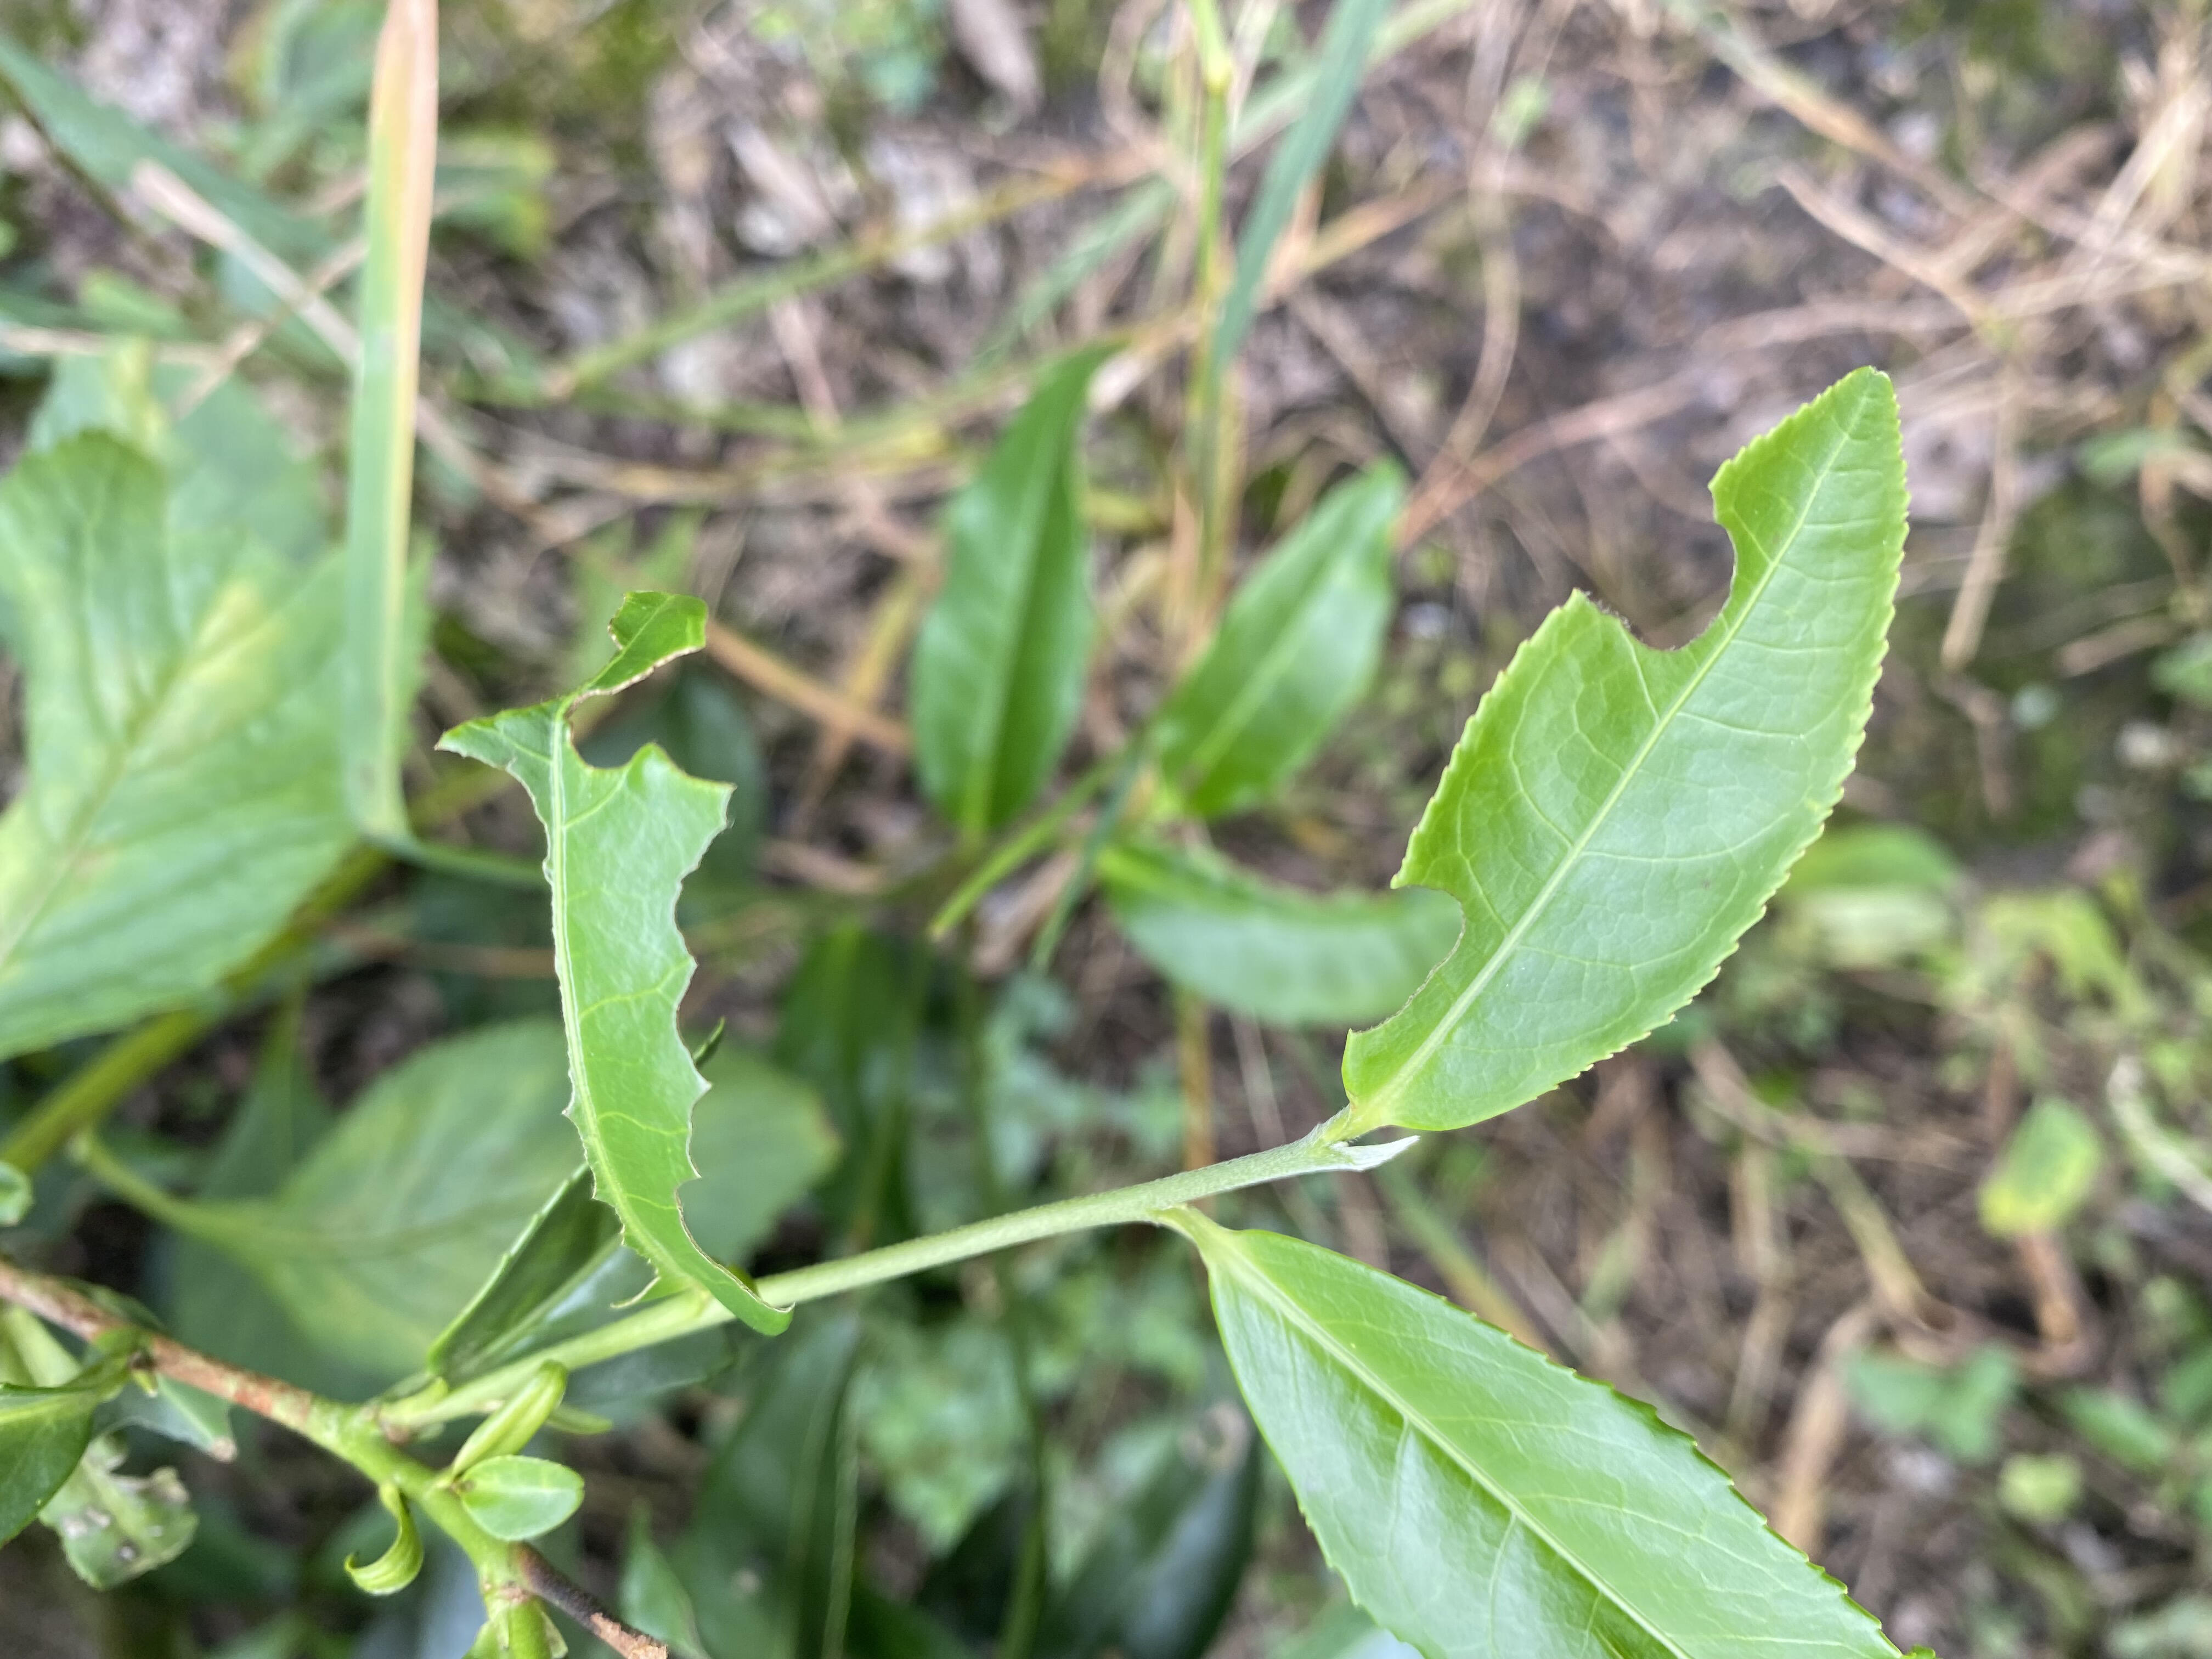chihuo_high: (1339, 362, 1912, 1136), (427, 586, 794, 1338)
healthy: (1205, 1225, 1907, 1659)
